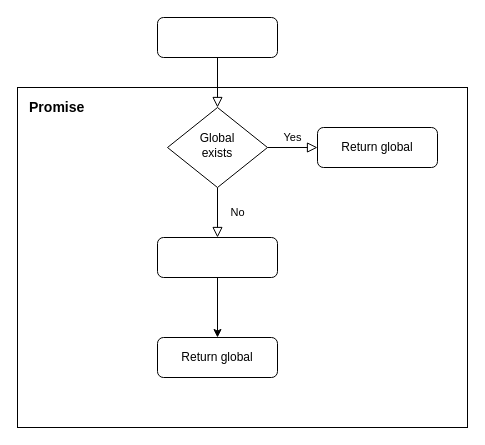
The diagram is 485 pixels wide and 445 high, and some of its shapes have lost their labels. The box of each missing label's shape, as (x1, y1, x2, y2) in pixels:
Load chunk via jsonp: (156, 236, 278, 278)
module `import()`: (156, 16, 278, 58)
